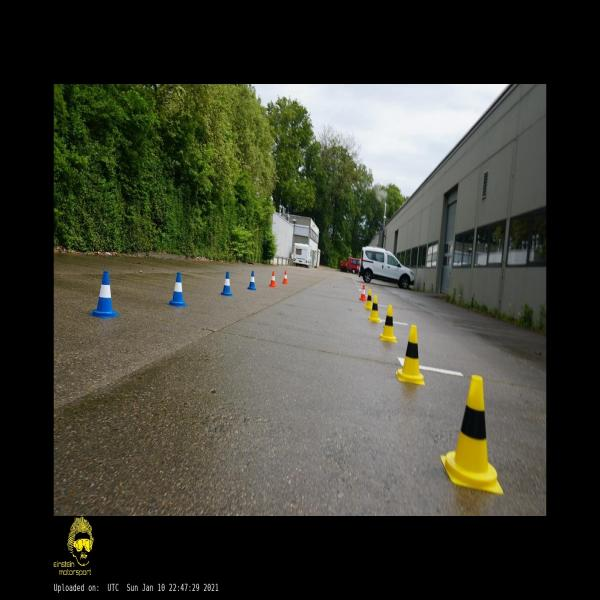blue_cone: (89, 271, 119, 319), (169, 272, 186, 306), (221, 272, 232, 296), (248, 271, 256, 290)
orange_cone: (359, 285, 367, 301), (269, 271, 276, 287), (282, 271, 288, 284)
yellow_cone: (441, 374, 504, 496), (396, 325, 424, 384), (379, 305, 397, 342), (368, 295, 380, 322), (364, 289, 372, 309)
